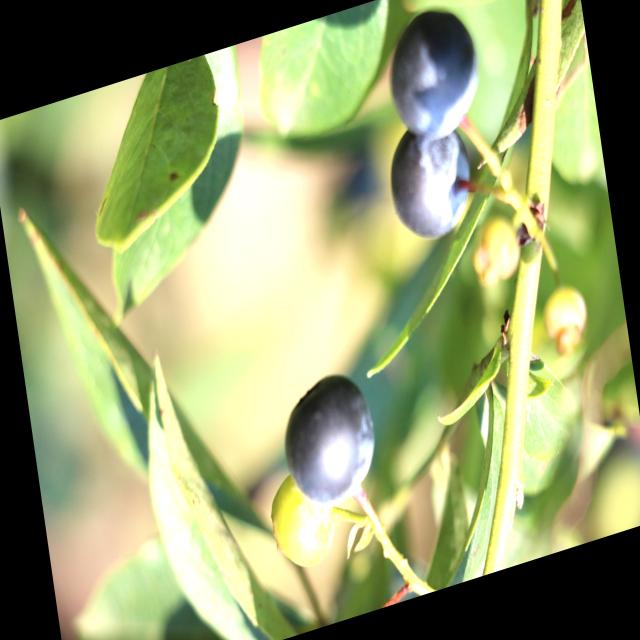blueberry: (275, 364, 386, 520), (383, 0, 487, 151), (382, 112, 478, 253)
blueberry-unripe: (265, 464, 339, 580), (538, 282, 592, 353), (478, 210, 526, 285)
